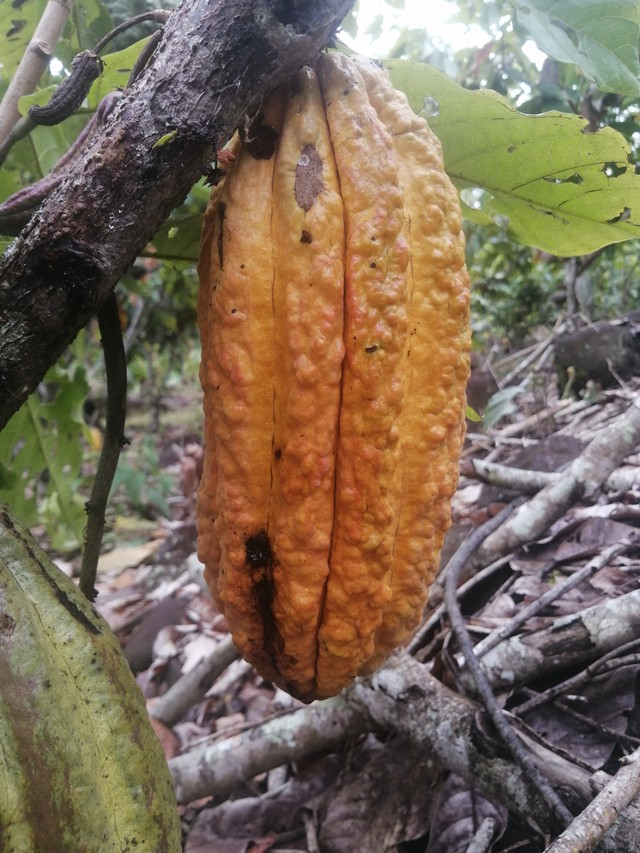carmenta foraseminis: (190, 32, 477, 709)
